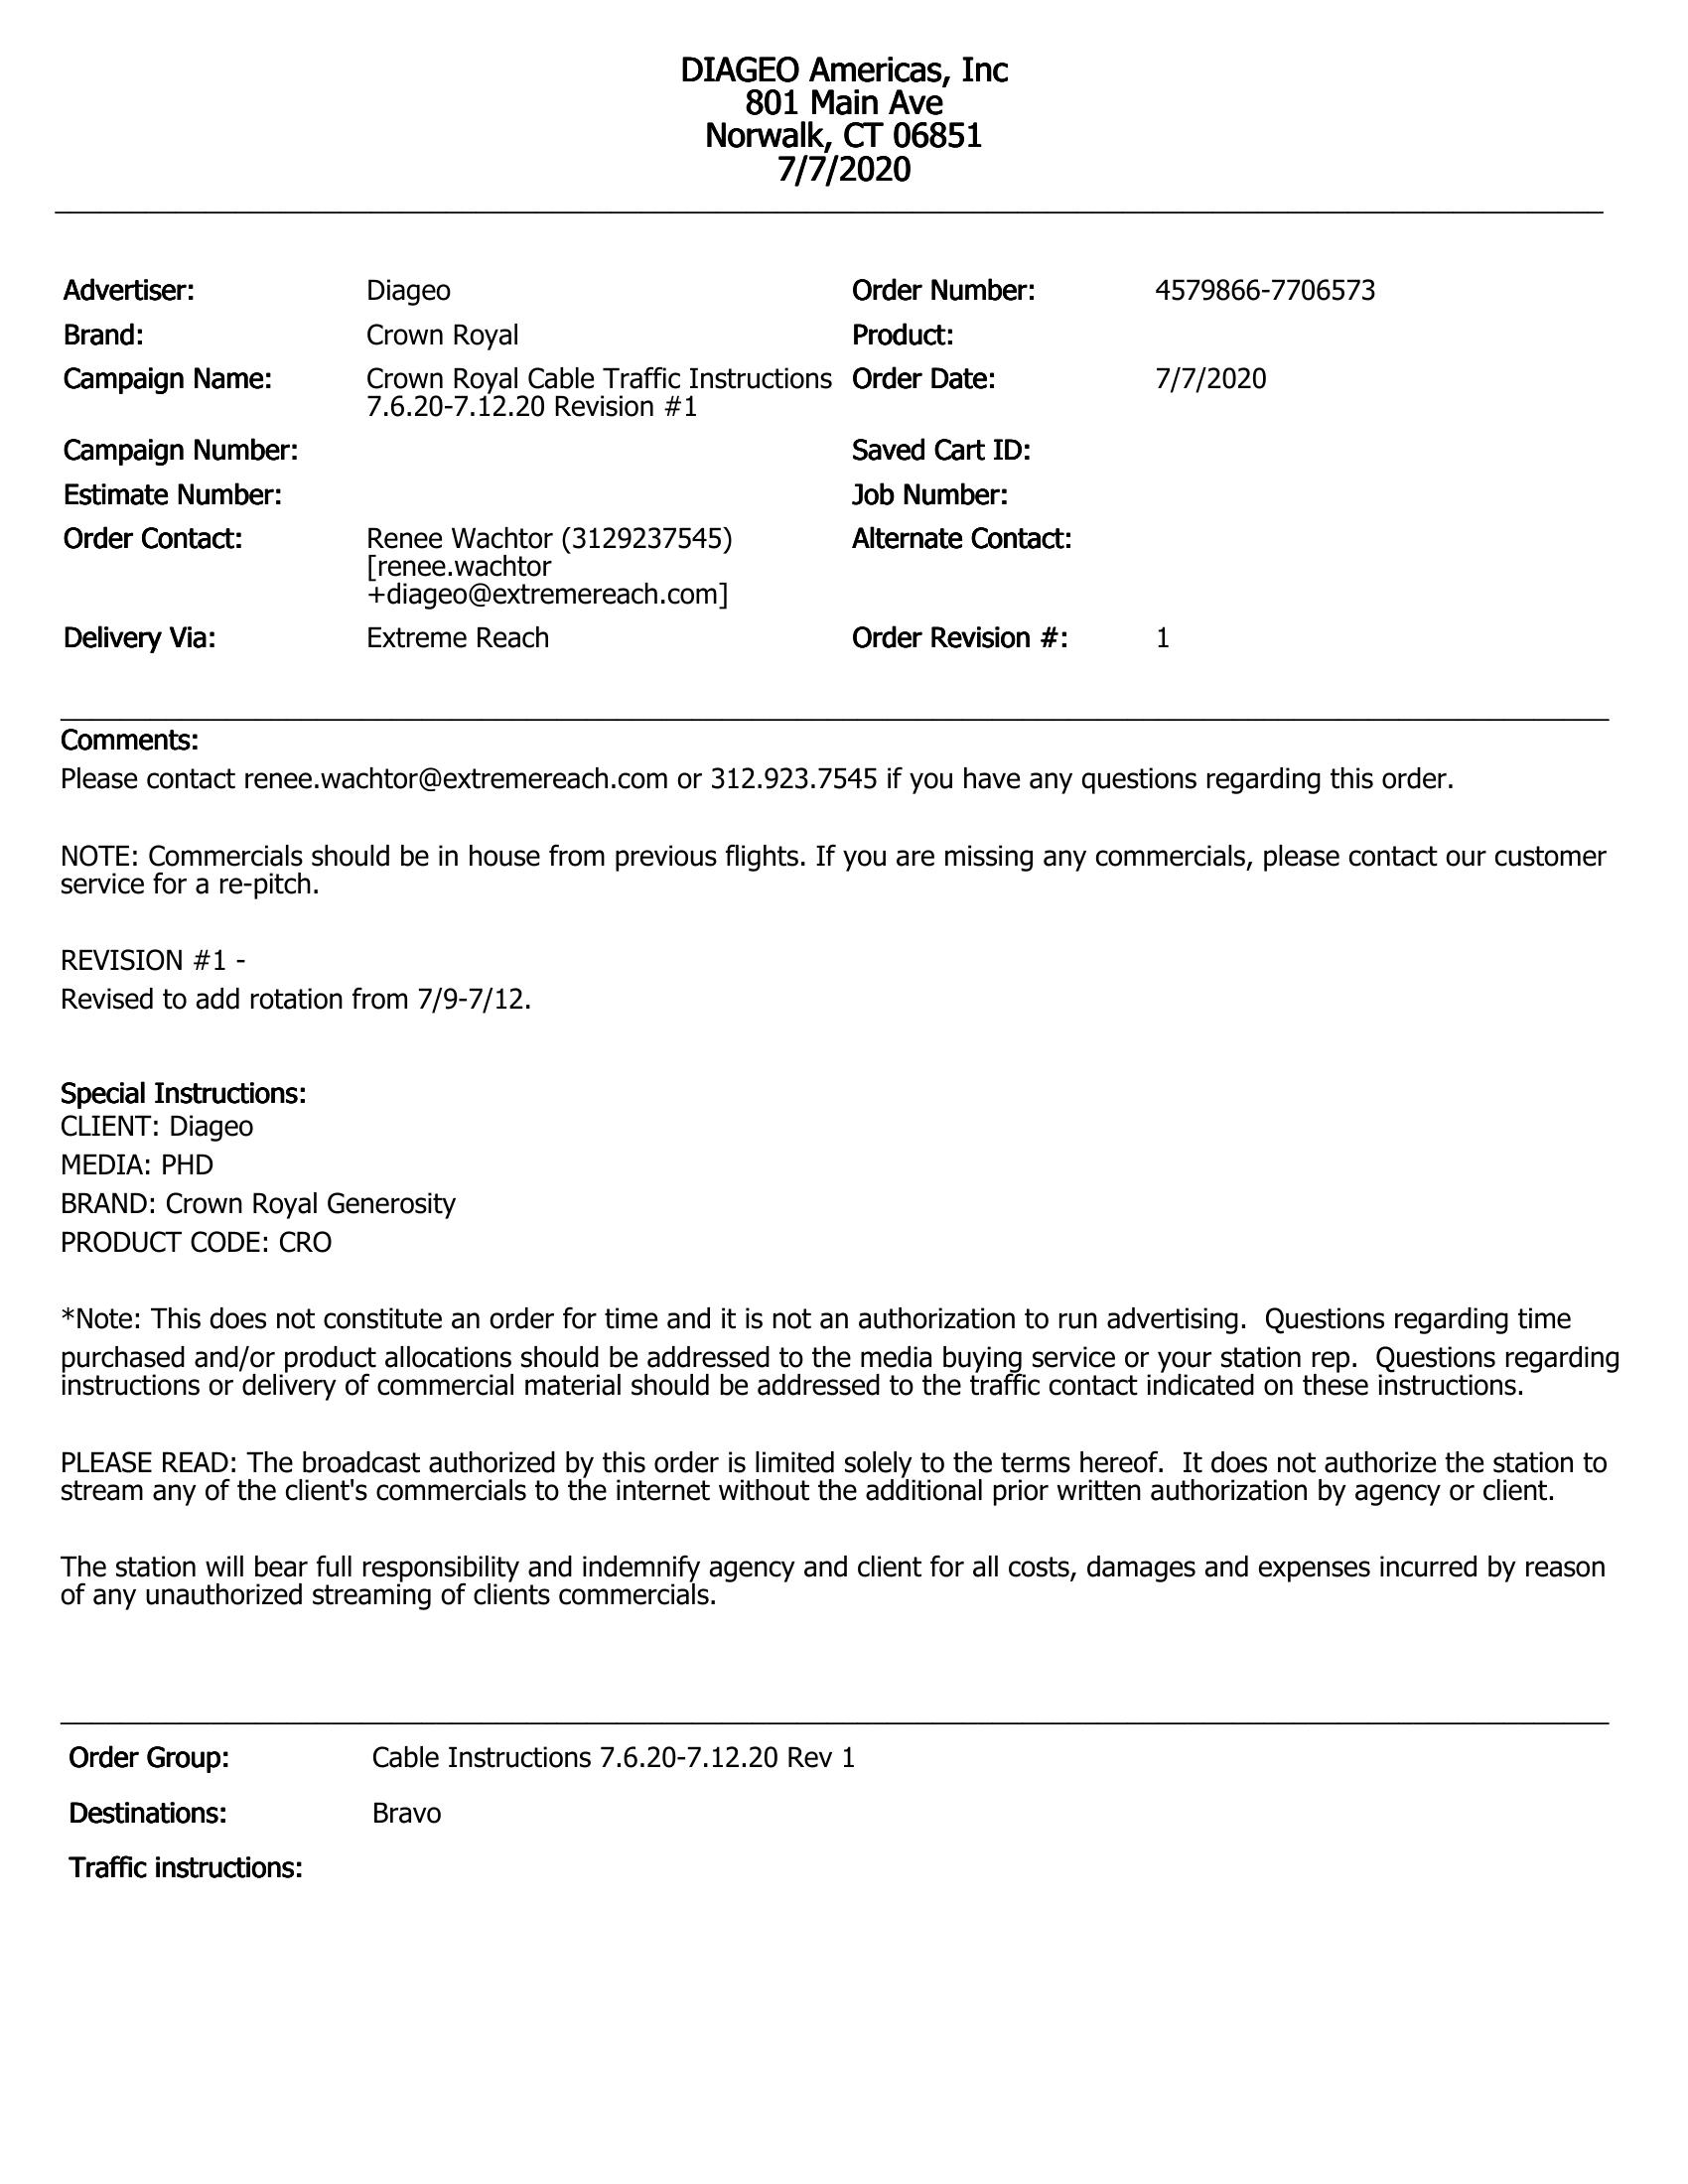table: (28, 243, 1397, 681), (48, 1728, 906, 1911)
